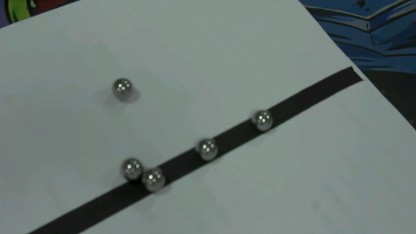ironball: (193, 137, 221, 169), (141, 164, 173, 189), (105, 76, 137, 101), (250, 101, 274, 132), (116, 155, 144, 179)
